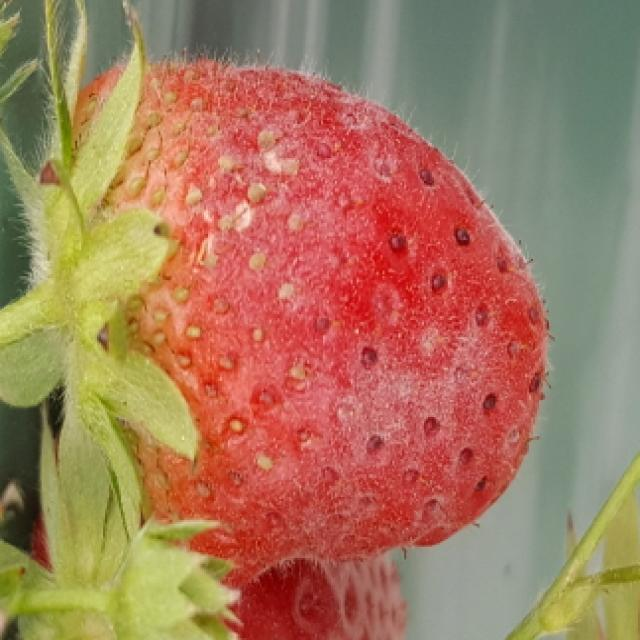Powdery Mildew Fruit: (40, 59, 548, 598)
